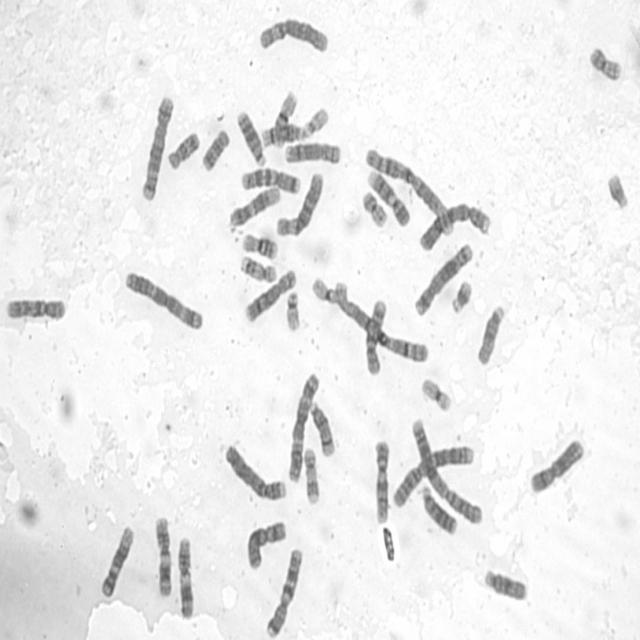A1: (362, 146, 458, 238), (329, 279, 430, 364)
A2: (409, 414, 484, 526), (391, 441, 476, 509)
A3: (121, 265, 205, 333), (286, 368, 321, 483)
B4: (222, 440, 288, 503), (416, 198, 492, 252)
B5: (412, 239, 475, 317), (139, 91, 175, 202)
C10: (362, 296, 389, 378), (4, 294, 66, 321)
C11: (153, 513, 173, 598), (176, 533, 195, 621)
C12: (98, 522, 134, 599), (226, 182, 282, 231)
C6: (274, 169, 324, 237), (255, 15, 330, 55)
C7: (263, 544, 304, 638), (238, 163, 301, 196)
C8: (242, 264, 298, 323), (281, 138, 342, 166)
C9: (365, 168, 411, 228), (372, 436, 391, 526)
D13: (418, 481, 458, 536), (235, 106, 267, 168)
D14: (307, 398, 336, 458), (260, 121, 308, 149)
D15: (475, 301, 505, 366), (482, 564, 528, 602)
E16: (271, 87, 299, 149), (240, 231, 279, 260)
E17: (238, 253, 278, 284), (302, 444, 321, 506)
E18: (198, 125, 231, 173), (165, 128, 201, 172)
F19: (420, 374, 453, 412), (310, 273, 346, 306)
F20: (586, 42, 622, 82), (360, 187, 390, 230)
G21: (605, 170, 630, 211), (449, 276, 473, 316)
G22: (284, 289, 302, 333), (305, 108, 330, 136)
X: (526, 435, 586, 495), (244, 516, 287, 572)
